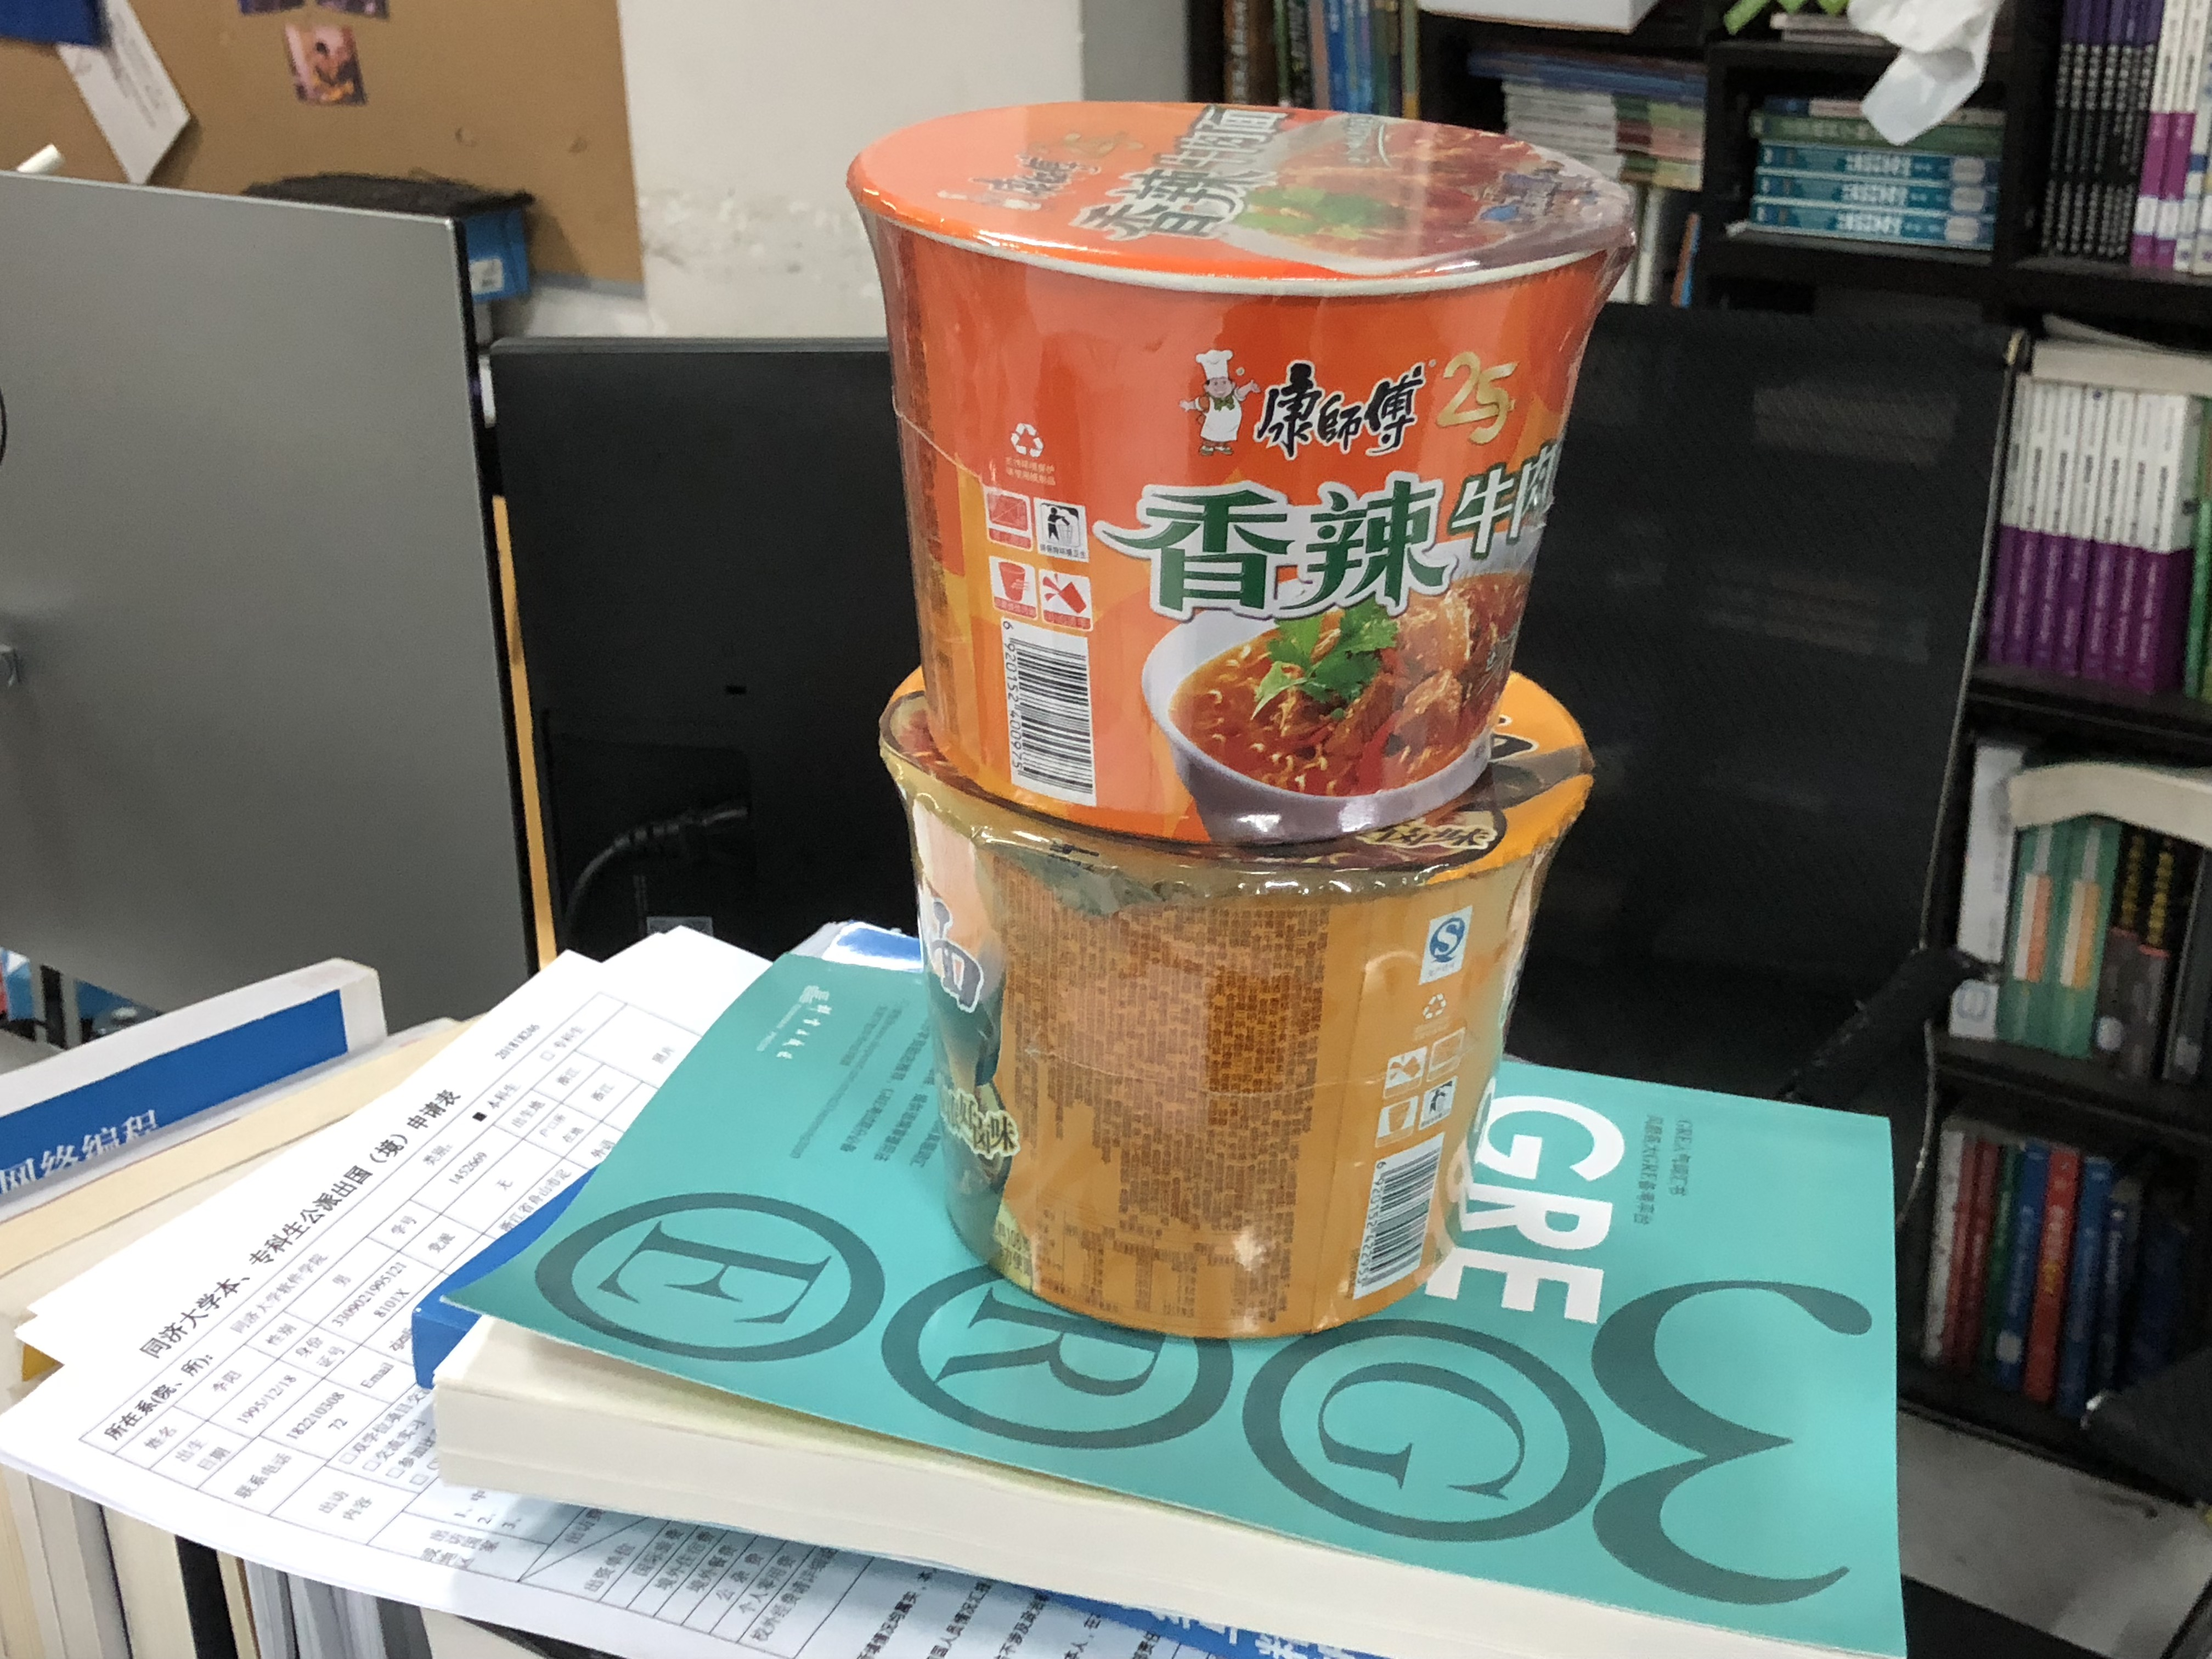luxiang: (876, 655, 1594, 1345)
xiangla: (843, 96, 1634, 849)
